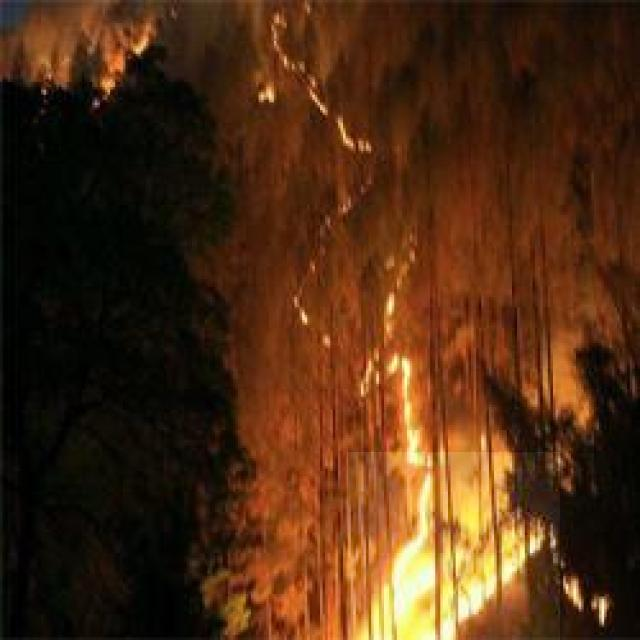Fire: (347, 452, 560, 640)
